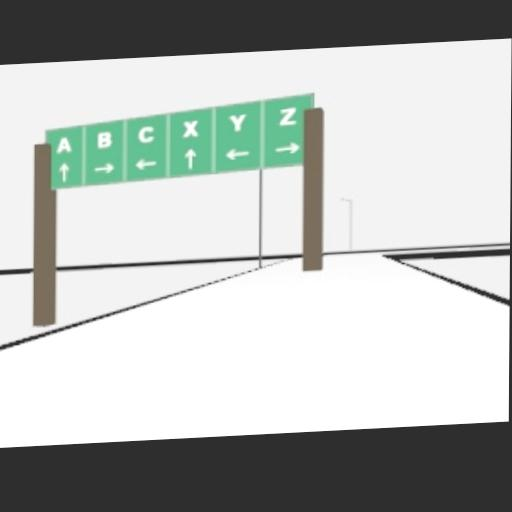A: (56, 135, 70, 151)
B: (95, 130, 110, 147)
C: (138, 123, 154, 141)
Left: (224, 146, 249, 159), (135, 156, 157, 169)
Right: (273, 139, 301, 155), (92, 162, 114, 173)
Straight: (184, 147, 196, 167), (58, 160, 68, 179)
X: (182, 118, 200, 138)
Y: (227, 112, 247, 131)
Z: (278, 106, 296, 124)
